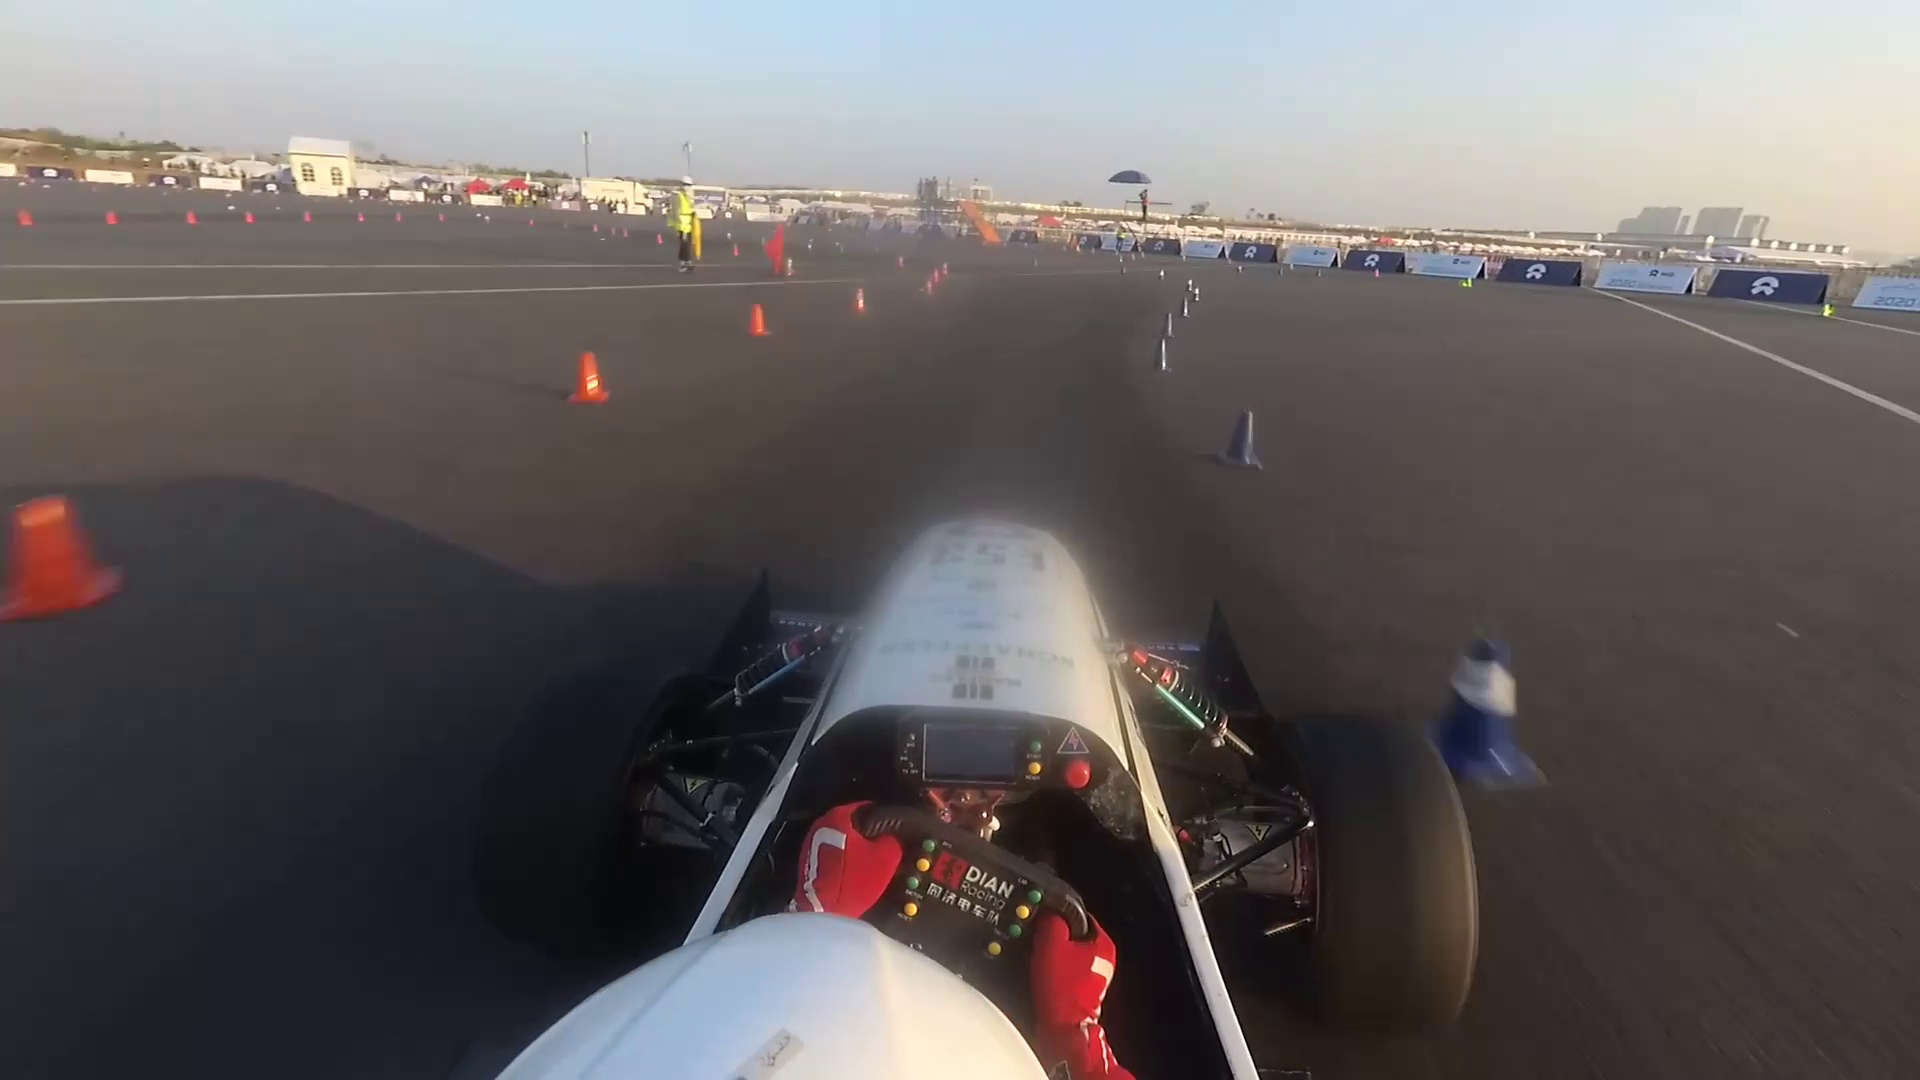blue_cone: (1418, 613, 1551, 794), (1221, 396, 1269, 479), (1155, 338, 1174, 378), (1163, 307, 1178, 340), (1179, 291, 1193, 323), (806, 236, 822, 255), (1156, 264, 1167, 282), (870, 243, 884, 257), (1193, 285, 1203, 305), (835, 241, 848, 255), (1236, 262, 1247, 277), (1184, 278, 1196, 291), (1287, 261, 1298, 274), (1313, 266, 1324, 278), (473, 208, 483, 222), (485, 214, 493, 225), (1139, 251, 1147, 261), (1121, 264, 1127, 276), (1130, 251, 1137, 262), (1120, 253, 1125, 265), (1279, 266, 1284, 277)
red_cone: (1, 469, 154, 630), (558, 345, 616, 407), (740, 299, 774, 345), (15, 202, 37, 231), (847, 287, 870, 313), (781, 256, 800, 280), (103, 204, 121, 229), (182, 204, 200, 228), (243, 207, 258, 229), (301, 208, 316, 227), (923, 280, 938, 297), (357, 206, 369, 225), (729, 243, 742, 258), (895, 253, 907, 269), (942, 258, 951, 277), (622, 224, 633, 240), (934, 268, 942, 286), (1373, 266, 1383, 280), (439, 210, 448, 224), (396, 208, 404, 222), (527, 216, 537, 227), (655, 233, 665, 244), (592, 220, 600, 232)
